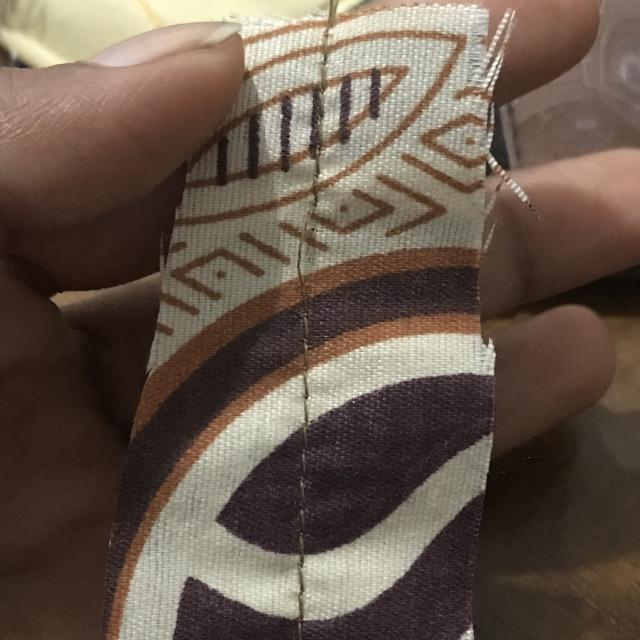good: (289, 428, 320, 532)
skip: (284, 186, 330, 340)
